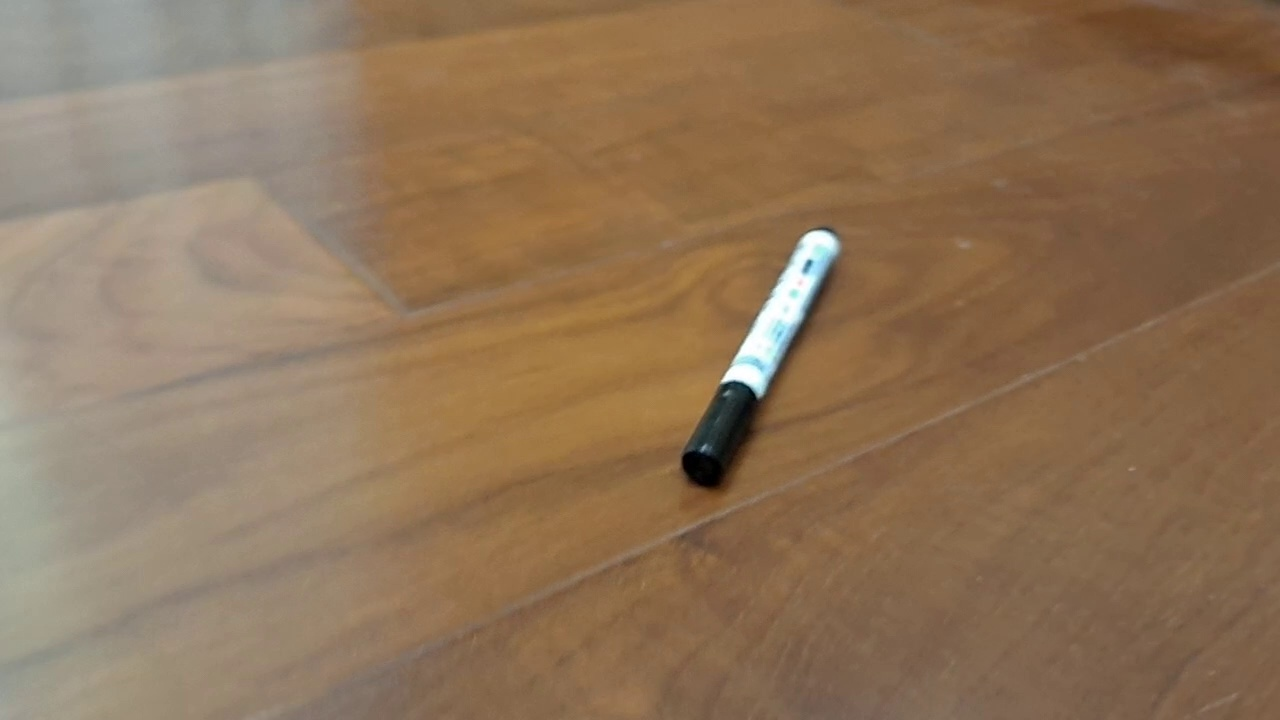pen: (682, 226, 842, 488)
